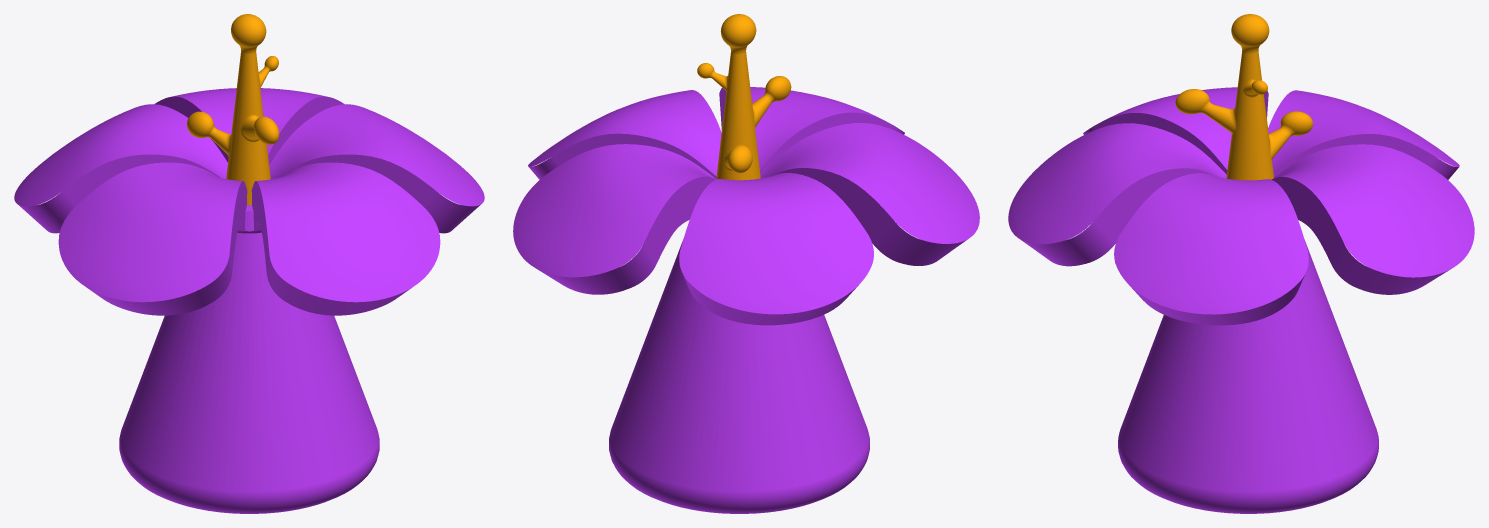
The model's file is modelo flor pagina.glb.
3 views of the same model, side by side, from view 1: azimuth 30°, elevation 25°; view 2: azimuth 150°, elevation 25°; view 3: azimuth 270°, elevation 25° (orthographic).
Bounding box in the file's own units: 0.00787 × 0.00834 × 0.00781.
